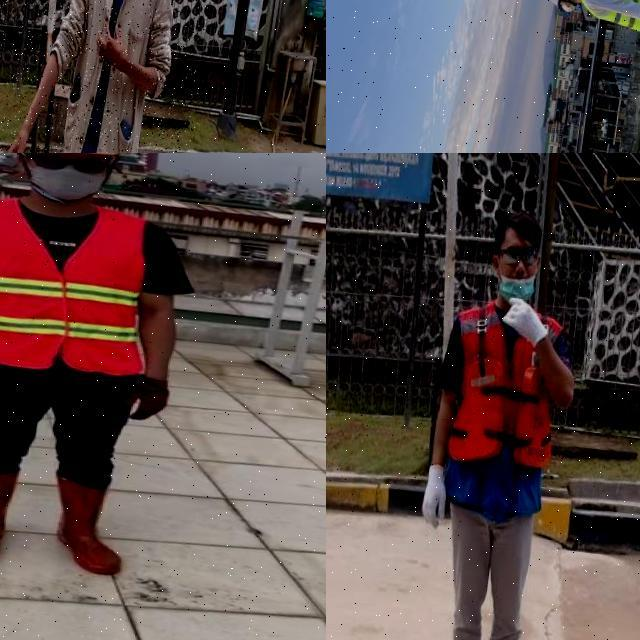boots: (43, 472, 132, 576), (0, 466, 15, 565)
helmet: (542, 0, 568, 8)
vest: (432, 294, 572, 520), (0, 197, 156, 380), (574, 0, 640, 36)
